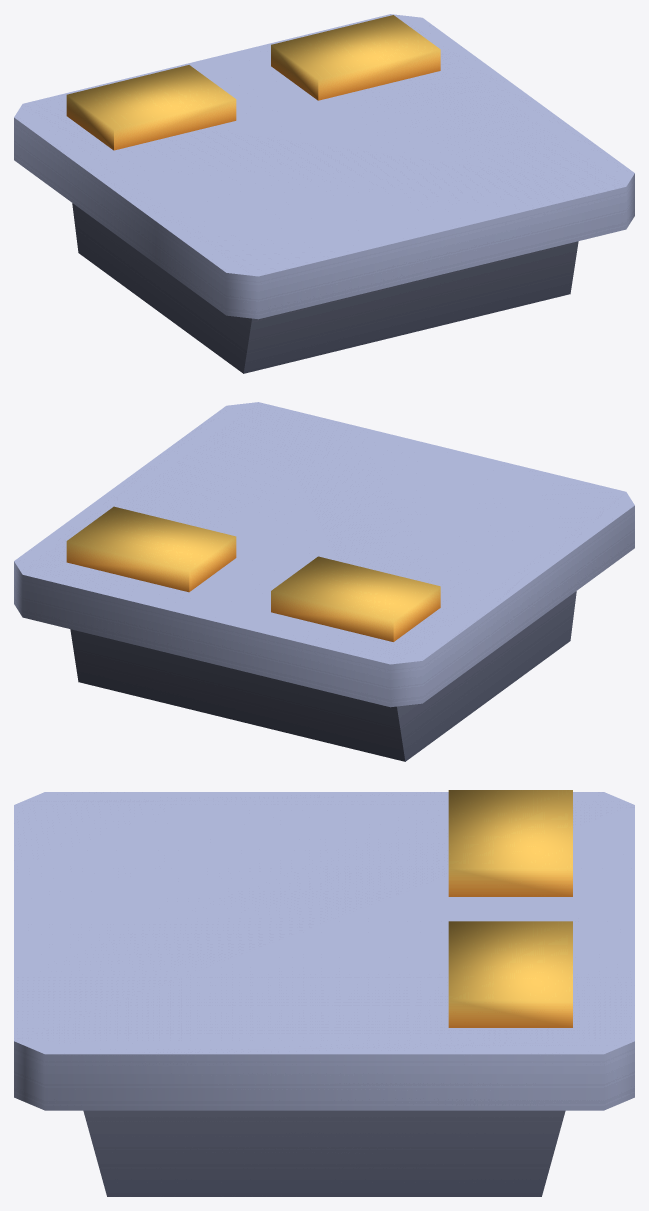
File: bed-double.glb
3 renders of one model, top to bottom at view 1: azimuth 30°, elevation 25°; view 2: azimuth 150°, elevation 25°; view 3: azimuth 270°, elevation 25°, orthographic. The views are drawn at different scales.
Parts seen in each view (by area): view 1: bed-double; view 2: bed-double; view 3: bed-double.
Part boxes in pixels (x1,y1,x2,y2): bed-double: (14,14,634,373); bed-double: (14,402,634,761); bed-double: (14,790,634,1196).
Bounding box in the file's own units: 1 × 0.35 × 1.
1 material, 1 textured.
